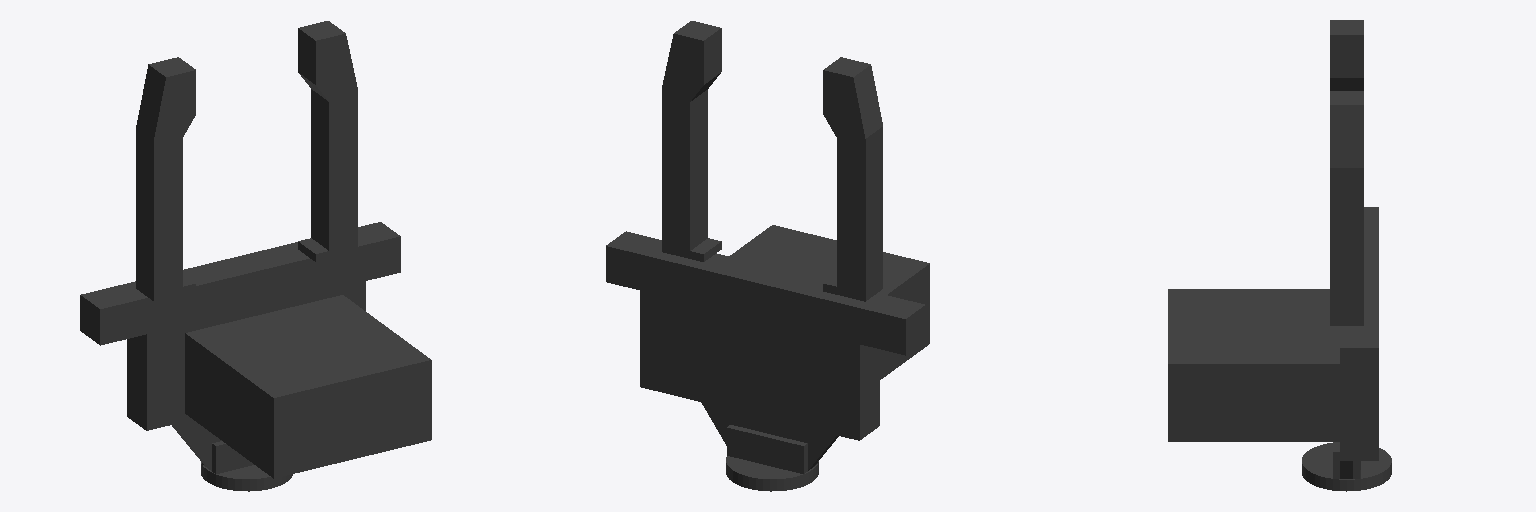
robot.urdf — xarm:
<?xml version="1.0" ?>
<robot name="xarm">
    <material name="DarkGrey">
        <color rgba="0.3 0.3 0.3 1.0" />
    </material>
    <material name="Red">
        <color rgba="0.3 0.3 0.3 1.0" />
    </material>
    <material name="Black">
        <color rgba="0 0 0 1.0" />
    </material>
    <material name="Orange">
        <color rgba="0.0 0.15 0.7 1.0" />
    </material>
    <material name="Silver">
        <color rgba="1.0 1.0 1.0 1.0" />
    </material>
    <material name="Grey">
        <color rgba="0.7 0.7 0.7 1.0" />
    </material>
    <material name="Blue">
        <color rgba="0.0 0.0 0.8 1.0" />
    </material>
    <material name="HandGray">
        <color rgba="0.953 0.996 0.694 1.0" />
    </material>
    <material name="SickBlue">
        <color rgba="0.3058 0.5921 0.7294 1.0" />
    </material>

    <link name="xarm_base_link">
        <visual>
            <origin rpy="0 0 0" xyz="0.0 0.0 0.0" />
            <geometry>
                <mesh filename="package://xarm_description/meshes/stls/base.stl" scale="1.0 1.0 1.0" />
            </geometry>
            <material name="Blue" />
        </visual>
        <collision>
            <origin rpy="0 0 0" xyz="0 0 0" />
            <geometry>
                <mesh filename="package://xarm_description/meshes/stls/base.stl" scale="1.0 1.0 1.0" />
            </geometry>
        </collision>

    </link>

    <link name="xarm_6_link">
        <visual>
            <origin rpy="0 0 0" xyz="0.0 0.0 0.0" />
            <geometry>
                <mesh filename="package://xarm_description/meshes/stls/link6.stl" scale="1.0 1.0 1.0" />
            </geometry>
            <material name="DarkGrey" />
        </visual>
        <collision>
            <origin rpy="0 0 0" xyz="0.0 0.0 0.0" />
            <geometry>
                <mesh filename="package://xarm_description/meshes/stls/link6.stl" scale="1.0 1.0 1.0" />
            </geometry>
        </collision>
        <inertial>
            <mass value="0.1" />
            <inertia ixx="0.03" iyy="0.03" izz="0.03" ixy="0.0" ixz="0.0" iyz="0.0" />
        </inertial>
    </link>

    <link name="xarm_5_link">
        <visual>
            <origin rpy="0 0 0" xyz="0.0 0.0 0.0" />
            <geometry>
                <mesh filename="package://xarm_description/meshes/stls/link5.stl" scale="1.0 1.0 1.0" />
            </geometry>
            <material name="Blue" />
        </visual>
        <collision>
            <origin rpy="0 0 0" xyz="0.0 0.0 0.0" />
            <geometry>
                <mesh filename="package://xarm_description/meshes/stls/link5.stl" scale="1.0 1.0 1.0" />
            </geometry>
        </collision>
        <inertial>
            <mass value="0.1" />
            <inertia ixx="0.03" iyy="0.03" izz="0.03" ixy="0.0" ixz="0.0" iyz="0.0" />
        </inertial>
    </link>

    <link name="xarm_4_link">
        <visual>
            <origin rpy="0 0 0" xyz="0.0 0.0 0.0" />
            <geometry>
                <mesh filename="package://xarm_description/meshes/stls/link4.stl" scale="1.0 1.0 1.0" />
            </geometry>
            <material name="DarkGrey" />
        </visual>
        <collision>
            <origin rpy="0 0 0" xyz="0.0 0.0 0.0" />
            <geometry>
                <mesh filename="package://xarm_description/meshes/stls/link4.stl" scale="1.0 1.0 1.0" />
            </geometry>
        </collision>
        <inertial>
            <mass value="0.1" />
            <inertia ixx="0.03" iyy="0.03" izz="0.03" ixy="0.0" ixz="0.0" iyz="0.0" />
        </inertial>
    </link>

    <link name="xarm_3_link">
        <visual>
            <origin rpy="0 0 3.14" xyz="0.0 0.0 0.0" />
            <geometry>
                <mesh filename="package://xarm_description/meshes/stls/link3.stl" scale="1.0 1.0 1.0" />
            </geometry>
            <material name="Blue" />
        </visual>
        <collision>
            <origin rpy="0 0 3.14" xyz="0.0 0.0 0.0" />
            <geometry>
                <mesh filename="package://xarm_description/meshes/stls/link3.stl" scale="1.0 1.0 1.0" />
            </geometry>
        </collision>
        <inertial>
            <mass value="0.1" />
            <inertia ixx="0.03" iyy="0.03" izz="0.03" ixy="0.0" ixz="0.0" iyz="0.0" />
        </inertial>
    </link>

    <link name="xarm_2_link">
        <visual>
            <origin rpy="0 0 0" xyz="0.0 0.0 0.0" />
            <geometry>
                <mesh filename="package://xarm_description/meshes/stls/link2.stl" scale="1.0 1.0 1.0" />
            </geometry>
            <material name="Blue" />
        </visual>
        <collision>
            <origin rpy="0 0 0" xyz="0.0 0.0 0.0" />
            <geometry>
                <mesh filename="package://xarm_description/meshes/stls/link2.stl" scale="1.0 1.0 1.0" />
            </geometry>
        </collision>
        <inertial>
            <mass value="0.1" />
            <inertia ixx="0.03" iyy="0.03" izz="0.03" ixy="0.0" ixz="0.0" iyz="0.0" />
        </inertial>
    </link>

    <link name="xarm_gripper_base_link">
        <visual>
            <origin rpy="0 0 3.14" xyz="0.0 0.0 0.0" />
            <geometry>
                <mesh filename="package://xarm_description/meshes/stls/gripper_palm.stl" scale="1.0 1.0 1.0" />
            </geometry>
            <material name="DarkGrey" />
        </visual>
        <collision>
            <origin rpy="0 0 3.14" xyz="0.0 0.0 0.0" />
            <geometry>
                <mesh filename="package://xarm_description/meshes/stls/gripper_palm.stl" scale="1.0 1.0 1.0" />
            </geometry>
        </collision>
        <inertial>
            <mass value="0.1" />
            <inertia ixx="0.03" iyy="0.03" izz="0.03" ixy="0.0" ixz="0.0" iyz="0.0" />
        </inertial>
    </link>

    <link name="xarm_gripper_finger_left_link">
        <visual>
            <origin rpy="0 0 0" xyz="0.0 0.0 0.0" />
            <geometry>
                <mesh filename="package://xarm_description/meshes/stls/gripper_finger_left.stl" scale="1.0 1.0 1.0" />
            </geometry>
            <material name="DarkGrey" />
        </visual>
        <collision>
            <origin rpy="0 0 0" xyz="0.0 0.0 0.0" />
            <geometry>
                <mesh filename="package://xarm_description/meshes/stls/gripper_finger_left.stl" scale="1.0 1.0 1.0" />
            </geometry>
        </collision>
        <inertial>
            <mass value="0.1" />
            <inertia ixx="0.03" iyy="0.03" izz="0.03" ixy="0.0" ixz="0.0" iyz="0.0" />
        </inertial>
    </link>

    <link name="xarm_gripper_finger_right_link">
        <visual>
            <origin rpy="0 0 0" xyz="0.0 0.0 0.0" />
            <geometry>
                <mesh filename="package://xarm_description/meshes/stls/gripper_finger_right.stl" scale="1.0 1.0 1.0" />
            </geometry>
            <material name="DarkGrey" />
        </visual>
        <collision>
            <origin rpy="0 0 0" xyz="0.0 0.0 0.0" />
            <geometry>
                <mesh filename="package://xarm_description/meshes/stls/gripper_finger_right.stl" scale="1.0 1.0 1.0" />
            </geometry>
        </collision>
        <inertial>
            <mass value="0.1" />
            <inertia ixx="0.03" iyy="0.03" izz="0.03" ixy="0.0" ixz="0.0" iyz="0.0" />
        </inertial>
    </link>

    <joint name="xarm_6_joint" type="revolute">
        <origin rpy="0 0 0" xyz="0 0.0 0.03603" />
        <axis xyz="0 0 1" />
        <limit effort="1000" lower="-1.737238322" upper="1.79965407" velocity="1.0" />
        <!--safety_controller k_position="30" k_velocity="30" soft_lower_limit="-2.93215314335" soft_upper_limit="2.93215314335"/>
        <dynamics damping="1.0"/-->
        <parent link="xarm_base_link" />
        <child link="xarm_6_link" />
    </joint>

    <joint name="xarm_5_joint" type="revolute">
        <origin rpy="0 0 0" xyz="0 -0.0022 0.03195" />
        <axis xyz="1 0 0" />
        <limit effort="1000" lower="-1.592023304" upper="1.86797401" velocity="1.0" />
        <!--safety_controller k_position="30" k_velocity="30" soft_lower_limit="-2.93215314335" soft_upper_limit="2.93215314335"/>
        <dynamics damping="1.0"/-->
        <parent link="xarm_6_link" />
        <child link="xarm_5_link" />
    </joint>

    <joint name="xarm_4_joint" type="revolute">
        <origin rpy="0 0 0" xyz="0 0.0 0.09765" />
        <axis xyz="1 0 0" />
        <limit effort="1000" lower="-1.910427965" upper="1.910427965" velocity="1.0" />
        <!--safety_controller k_position="30" k_velocity="30" soft_lower_limit="-2.93215314335" soft_upper_limit="2.93215314335"/>
        <dynamics damping="1.0"/-->
        <parent link="xarm_5_link" />
        <child link="xarm_4_link" />
    </joint>

    <joint name="xarm_3_joint" type="revolute">
        <origin rpy="0 0 0" xyz="0 0.0 0.09825" />
        <axis xyz="1 0 0" />
        <limit effort="1000" lower="-1.740612146" upper="1.86797401" velocity="1.0" />
        <!--safety_controller k_position="30" k_velocity="30" soft_lower_limit="-2.93215314335" soft_upper_limit="2.93215314335"/>
        <dynamics damping="1.0"/-->
        <parent link="xarm_4_link" />
        <child link="xarm_3_link" />
    </joint>

    <joint name="xarm_2_joint" type="revolute">
        <origin rpy="0 0 0" xyz="0 -0.001205 0.05306" />
        <axis xyz="0 0 1" />
        <limit effort="1000" lower="-2.17494876" upper="1.63121157" velocity="1.0" />
        <!--safety_controller k_position="30" k_velocity="30" soft_lower_limit="-2.93215314335" soft_upper_limit="2.93215314335"/>
        <dynamics damping="1.0"/-->
        <parent link="xarm_3_link" />
        <child link="xarm_2_link" />
    </joint>

    <joint name="xarm_end_effector_joint" type="fixed">
        <origin rpy="0 0 0" xyz="0 0 0" />
        <axis xyz="0 0 1" />
        <parent link="xarm_2_link" />
        <child link="xarm_gripper_base_link" />
    </joint>

    <joint name="xarm_1_joint" type="prismatic">
        <origin rpy="0 0 0" xyz="0 0 0.050"/>
        <axis xyz="1 0 0" />
        <limit effort="1000.0" lower="0.003" upper="0.028" velocity="0.5"/>
        <parent link="xarm_gripper_base_link"/>
        <child link="xarm_gripper_finger_left_link"/>
    </joint>

    <joint name="xarm_1_joint_mirror" type="prismatic">
        <origin rpy="0 0 0" xyz="0 0 0.050"/>
        <axis xyz="1 0 0" />
        <limit effort="1000.0" lower="0.003" upper="0.028" velocity="0.5"/>
        <parent link="xarm_gripper_base_link"/>
        <child link="xarm_gripper_finger_right_link"/>
        <mimic multiplier="-1.0" joint="xarm_1_joint" />
    </joint>

    <ros2_control name="xarm_ros2_control" type="system">
      <hardware>
        <plugin>xarm_hardware/XArmSystemHardware</plugin>
        <param name="example_param_hw_start_duration_sec">0</param>
        <param name="example_param_hw_stop_duration_sec">3.0</param>
        <param name="example_param_hw_slowdown">100</param>
      </hardware>

      <joint name="xarm_1_joint">
        <command_interface name="position">
          <param name="min">0.0035</param>
          <param name="max">0.028</param>
        </command_interface>
        <state_interface name="position"/>
      </joint>
      <joint name="xarm_1_joint_mirror">
        <command_interface name="position">
          <param name="min">0.003</param>
          <param name="max">0.028</param>
        </command_interface>
        <state_interface name="position"/>
      </joint>
      <joint name="xarm_2_joint">
        <command_interface name="position">
          <param name="min">-2.1749</param>
          <param name="max">1.6312</param>
        </command_interface>
        <state_interface name="position"/>
      </joint>
      <joint name="xarm_3_joint">
        <command_interface name="position">
          <param name="min">-1.7406</param>
          <param name="max">1.8680</param>
        </command_interface>
        <state_interface name="position"/>
      </joint>
      <joint name="xarm_4_joint">
        <command_interface name="position">
          <param name="min">-1.9104</param>
          <param name="max">1.9104</param>
        </command_interface>
        <state_interface name="position"/>
      </joint>
      <joint name="xarm_5_joint">
        <command_interface name="position">
          <param name="min">-1.5920</param>
          <param name="max">1.8680</param>
        </command_interface>
        <state_interface name="position"/>
      </joint>
      <joint name="xarm_6_joint">
        <command_interface name="position">
          <param name="min">-1.7372</param>
          <param name="max">1.7996</param>
        </command_interface>
        <state_interface name="position"/>
      </joint>
    </ros2_control>

</robot>

--- Facts derived from the render (not from the file) ---
3 views of the same robot in one strip: view 1: azimuth 30°, elevation 25°; view 2: azimuth 150°, elevation 25°; view 3: azimuth 270°, elevation 25° (orthographic).
Model xarm with 9 links and 8 joints (5 revolute, 2 prismatic, 1 fixed), rooted at xarm_base_link, posed joints at zero except 2 at the middle of their limits (xarm_1_joint = 0.0155, xarm_1_joint_mirror = -0.0155).
Links seen in each view (by area): view 1: xarm_gripper_base_link, xarm_gripper_finger_right_link, xarm_gripper_finger_left_link; view 2: xarm_gripper_base_link, xarm_gripper_finger_right_link, xarm_gripper_finger_left_link; view 3: xarm_gripper_base_link, xarm_gripper_finger_left_link, xarm_gripper_finger_right_link.
Link boxes in pixels (x1,y1,x2,y2): xarm_gripper_base_link: (80, 222, 431, 491); xarm_gripper_finger_right_link: (136, 57, 195, 301); xarm_gripper_finger_left_link: (298, 21, 357, 261); xarm_gripper_base_link: (606, 225, 929, 491); xarm_gripper_finger_right_link: (823, 57, 882, 301); xarm_gripper_finger_left_link: (662, 21, 721, 261); xarm_gripper_base_link: (1168, 207, 1391, 491); xarm_gripper_finger_left_link: (1330, 91, 1363, 325); xarm_gripper_finger_right_link: (1330, 20, 1363, 90).
Bounding box of the posed robot: 0.078 × 0.052 × 0.105 m (x, y, z).
Meshes: 9 distinct files referenced, 3 mesh visuals loaded (3 binary STL); not drawn: 6 (reference not matched to a file when rendering).